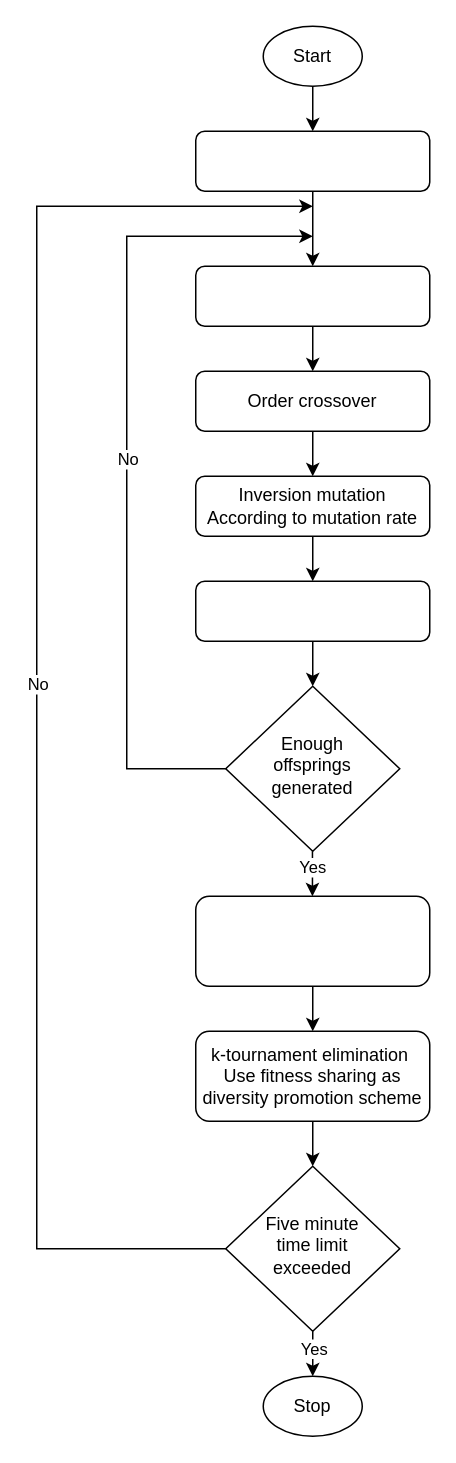
The diagram is 456 pixels wide and 1463 high, and some of its shapes have lost their labels. The centre of each missing label's shape, as x and y in pixels:
Initialization 20 % greedily - 80 % legally: point 312,160
k-tournament selection (Two parents): point 312,295
Local search operator (2-opt): point 312,610
Mutate all seed individuals according to mutation rate, except the best one: point 312,940
